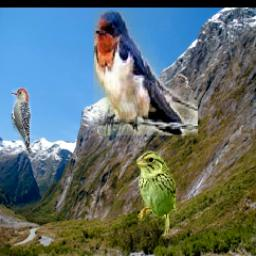Sparrow: (135, 151, 177, 240)
Swallow: (92, 10, 197, 135)
Woodpecker: (12, 89, 35, 156)
